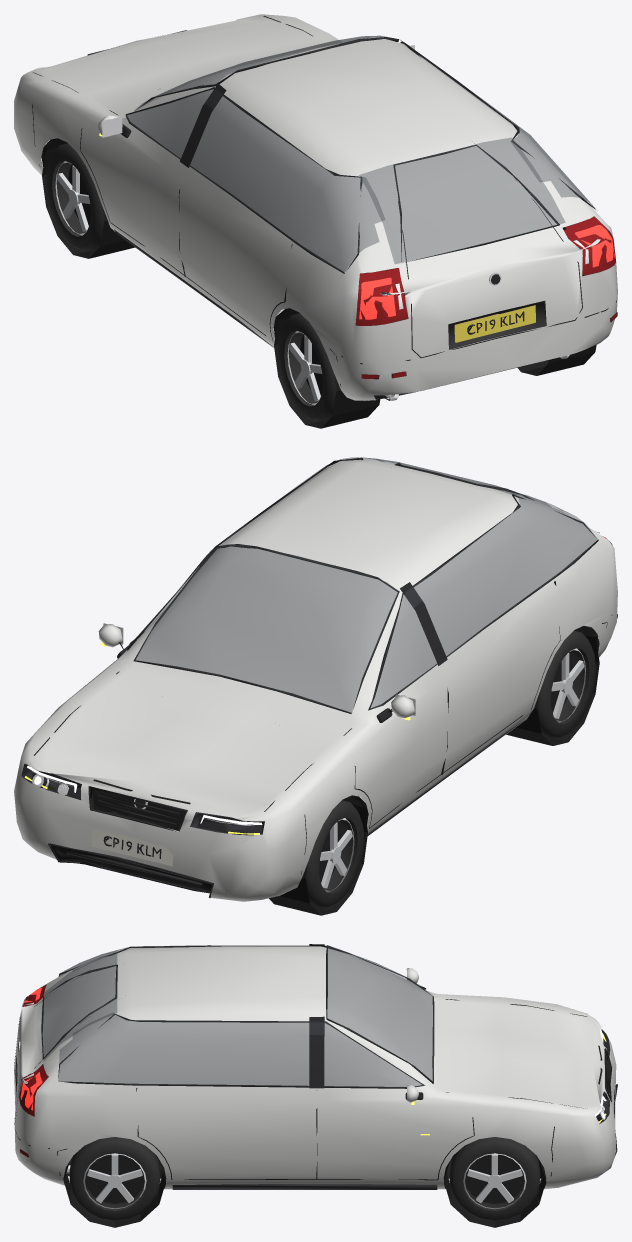
The model's file is car_hatch.glb.
3 renders of one model, top to bottom at view 1: azimuth 30°, elevation 25°; view 2: azimuth 150°, elevation 25°; view 3: azimuth 270°, elevation 25°, orthographic. The views are drawn at different scales.
Visible parts, largest first — view 1: car; view 2: car; view 3: car.
Boxes of the visible parts, box(x1,y1,x2,y2) form: car: box(14, 14, 617, 428); car: box(14, 457, 617, 915); car: box(14, 944, 617, 1227).
Bounding box in the file's own units: 2 × 1.5 × 4.05.
